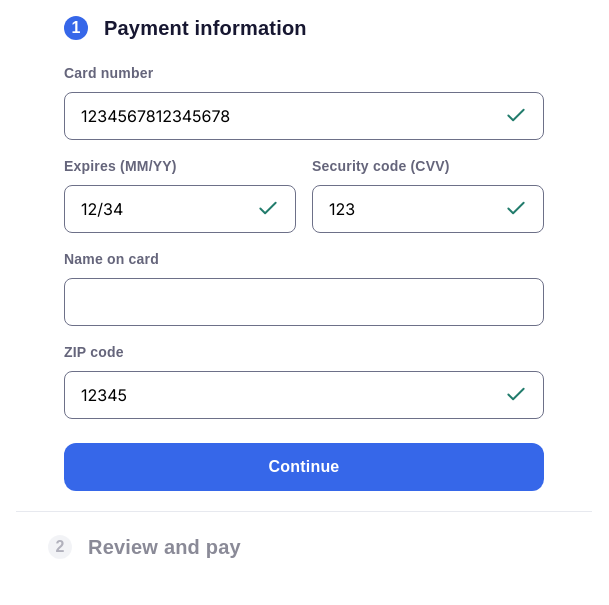
Test case: does not redirect and shows error when required field is missing
The image size is (609, 605).
Click the button with aria-label "Proceed to the review step" at [304, 467], box [64,443,544,491]
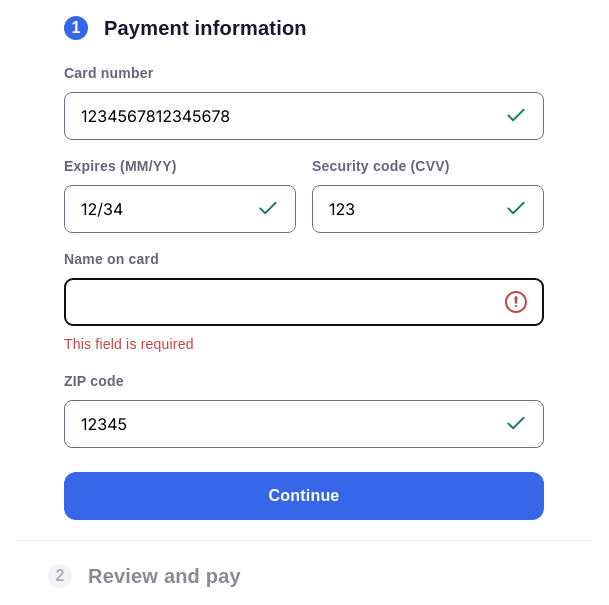
Result: the text "This field is required" is shown at [64,336,194,352]
Result: the number of pictures named "Error" is 1 at [504,290,528,314]
